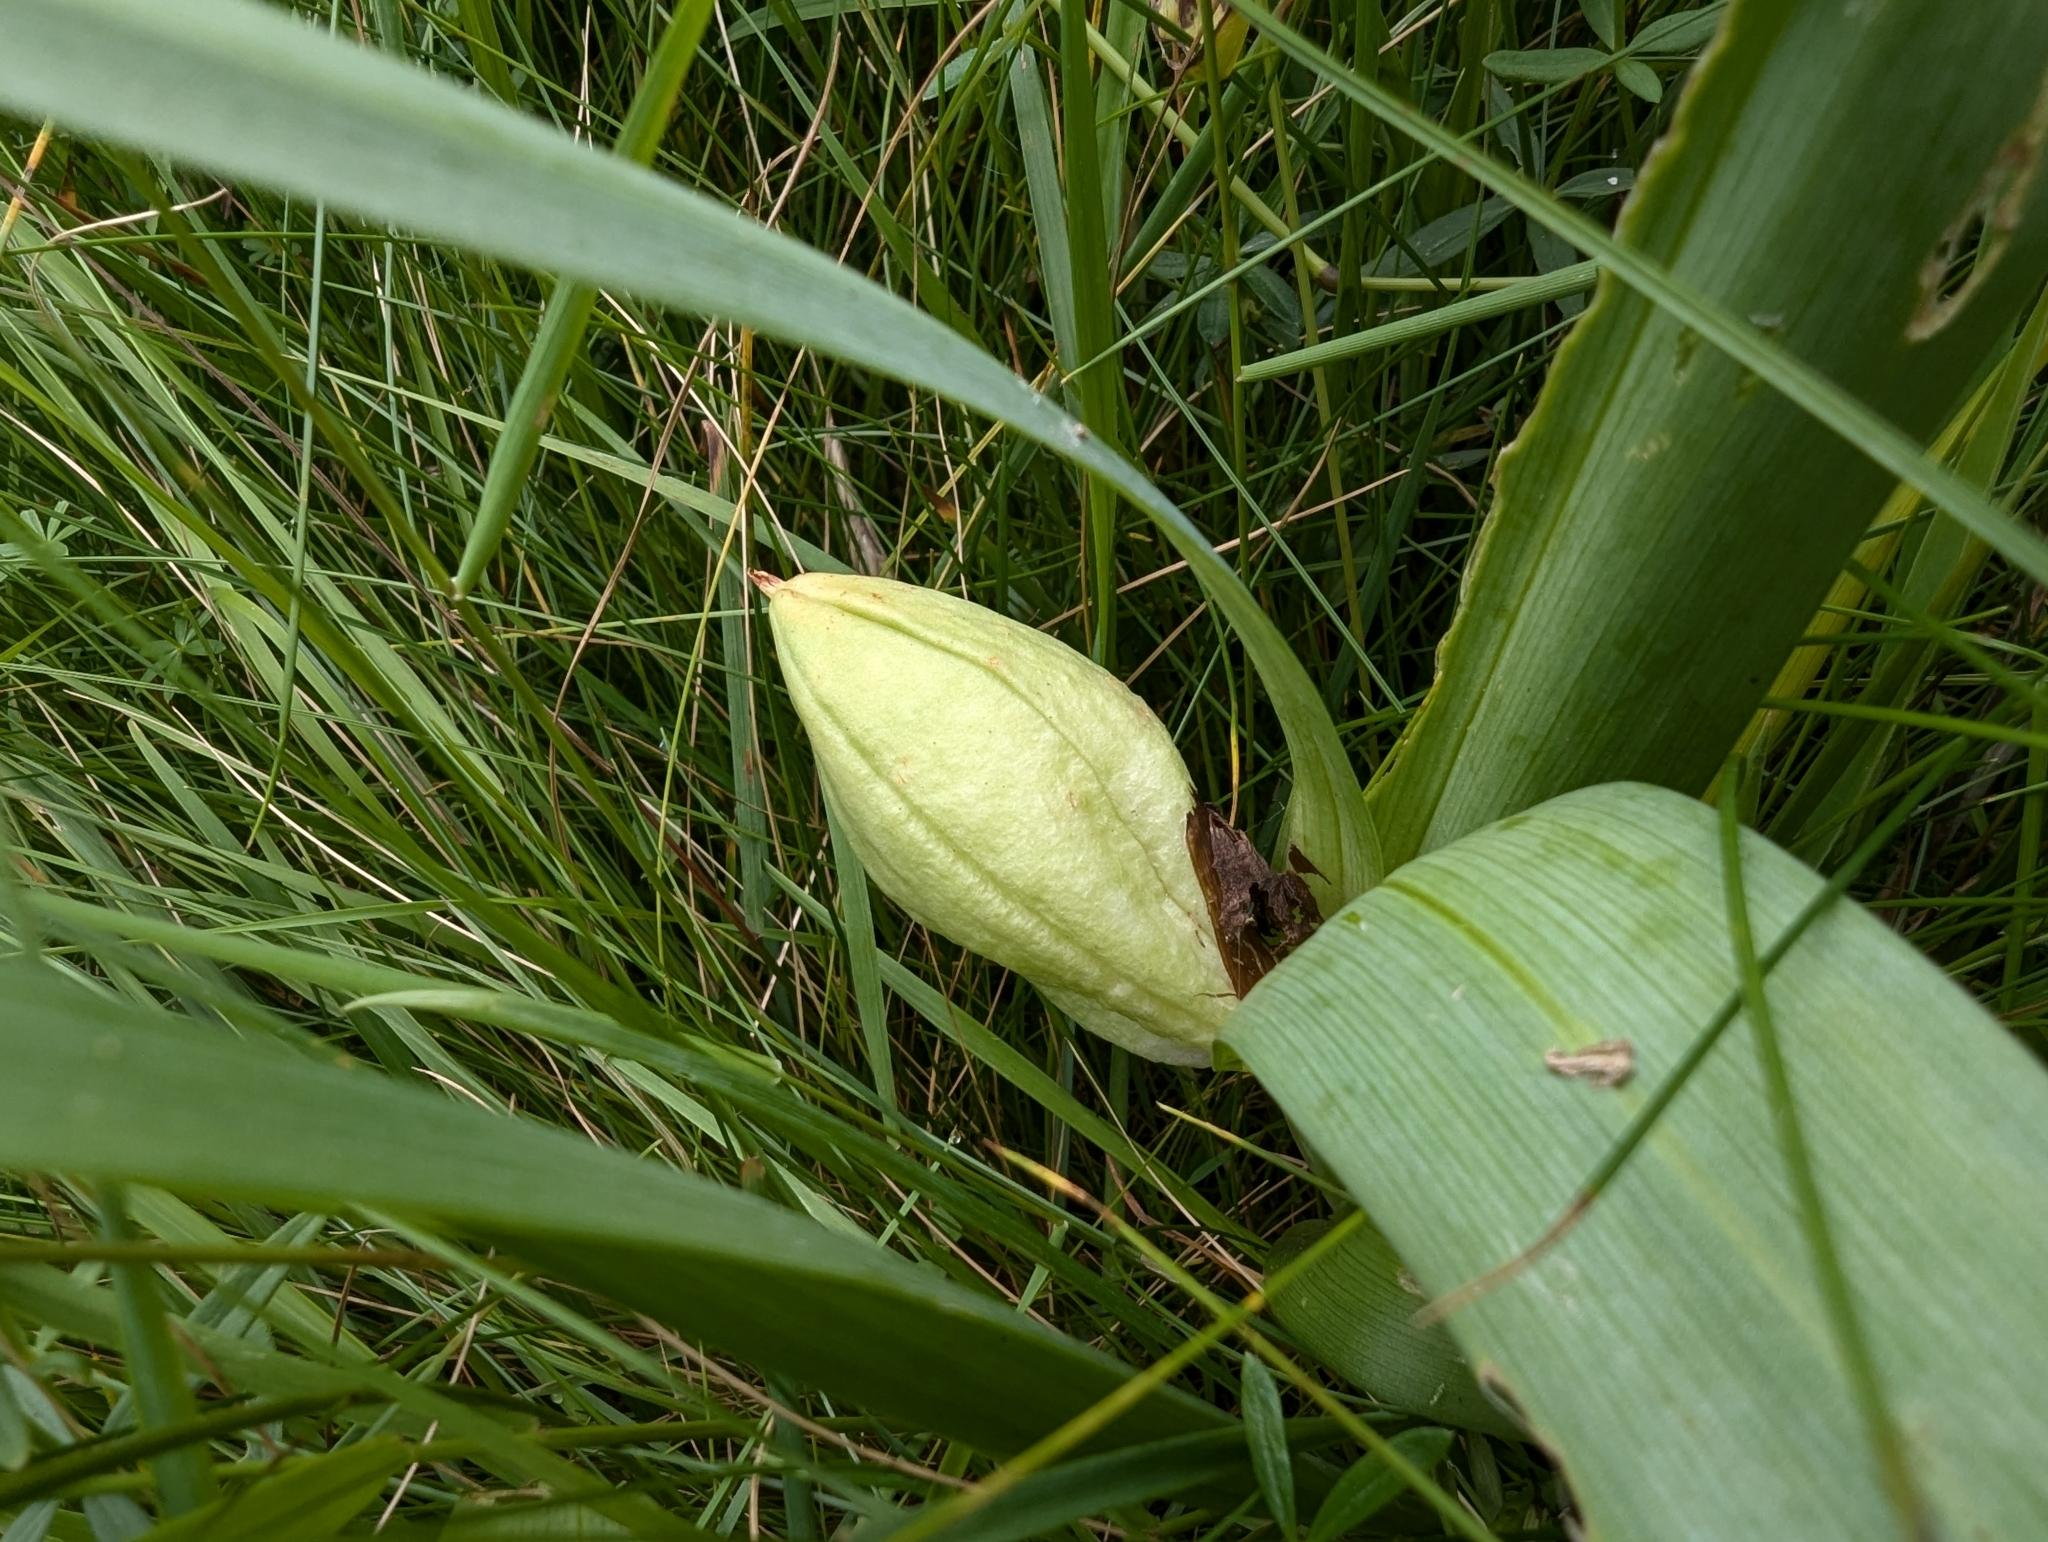Colchicum autumnale L: (693, 476, 2048, 1542)
